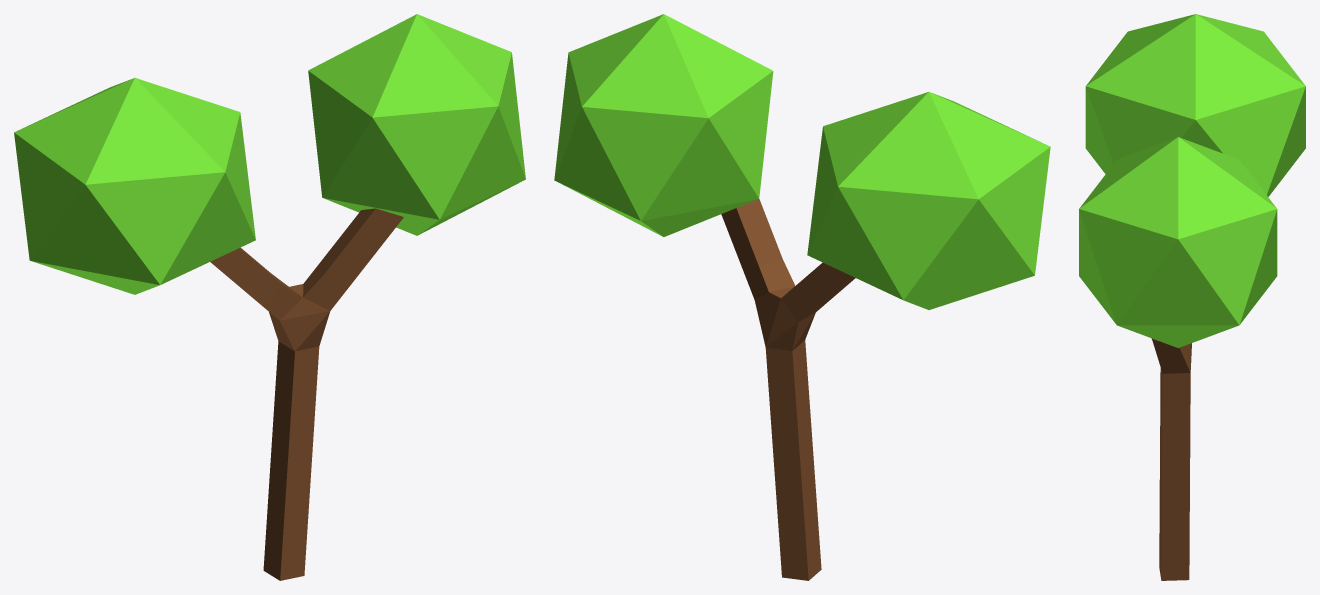
Rendered from Oak2.fbx.
The picture shows the model from 3 angles, left to right: view 1: azimuth 30°, elevation 25°; view 2: azimuth 150°, elevation 25°; view 3: azimuth 270°, elevation 25°; orthographic projection. The views are drawn at different scales.
Visible parts, largest first — view 1: Icosphere.001, Icosphere, Cube.001; view 2: Icosphere.001, Icosphere, Cube.001; view 3: Icosphere, Icosphere.001, Cube.001.
Part boxes in pixels (bbox=[...]): Icosphere.001: bbox=[14, 78, 255, 294]; Icosphere: bbox=[308, 14, 525, 235]; Cube.001: bbox=[210, 208, 403, 580]; Icosphere.001: bbox=[807, 92, 1050, 309]; Icosphere: bbox=[554, 14, 773, 236]; Cube.001: bbox=[721, 199, 855, 580]; Icosphere: bbox=[1079, 137, 1277, 347]; Icosphere.001: bbox=[1085, 14, 1305, 196]; Cube.001: bbox=[1151, 338, 1191, 580].
Bounding box in the file's own units: 66.3 × 70.43 × 28.93.
